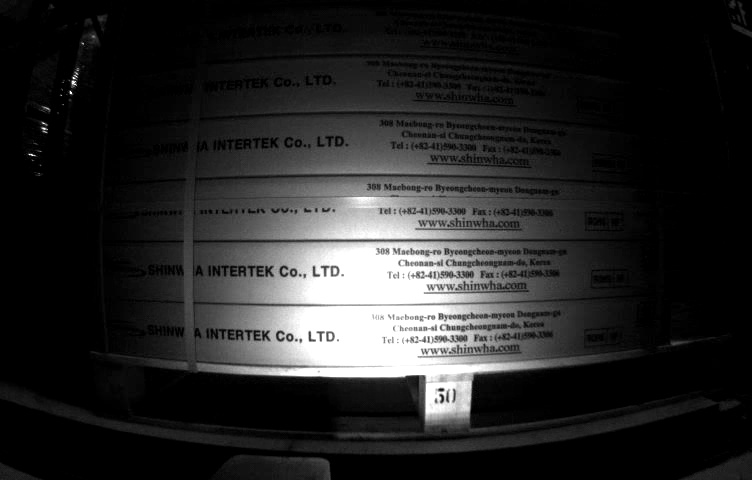True Barcode: (668, 301, 711, 345)
